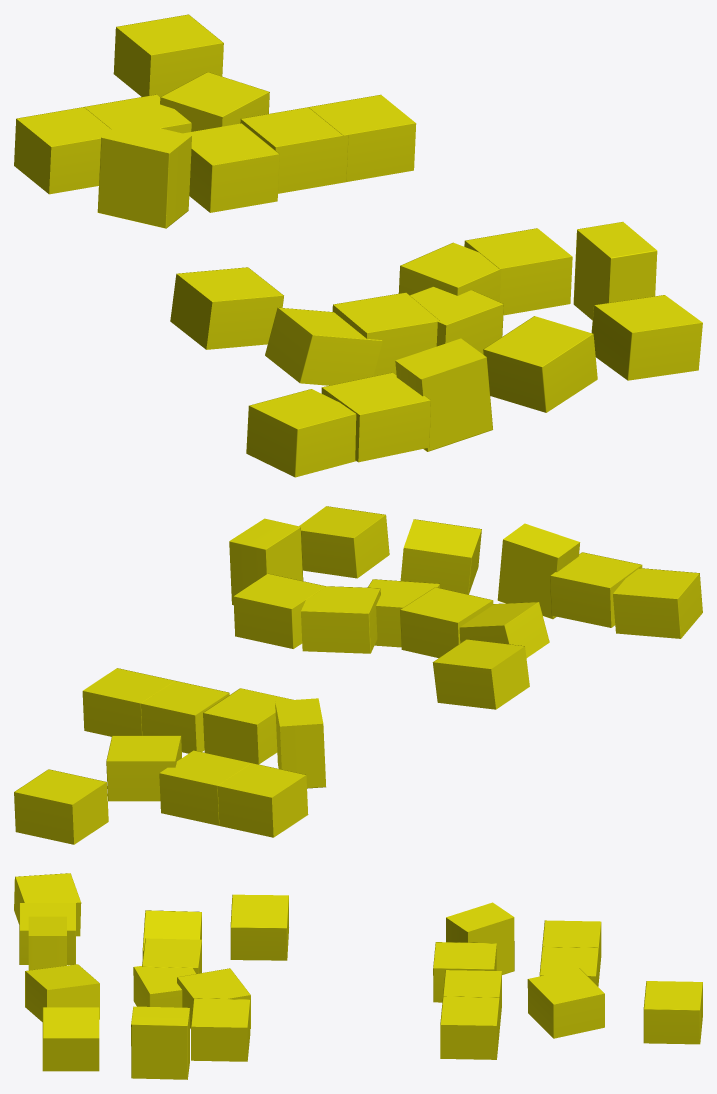
Rendered from Bookcase_05_BreakB_Lod0.fbx.
3 renders of one model, top to bottom at view 1: azimuth 30°, elevation 25°; view 2: azimuth 150°, elevation 25°; view 3: azimuth 270°, elevation 25°, orthographic. The views are drawn at different scales.
Visible parts, largest first — view 1: Bookcase_05_BreakB_Lod0; view 2: Bookcase_05_BreakB_Lod0; view 3: Bookcase_05_BreakB_Lod0.
Boxes of the visible parts, x1=… form: Bookcase_05_BreakB_Lod0: x1=14, y1=14, x2=702, y2=477; Bookcase_05_BreakB_Lod0: x1=14, y1=506, x2=702, y2=844; Bookcase_05_BreakB_Lod0: x1=14, y1=873, x2=702, y2=1079.
Size of the model in its own units: 176 by 33 by 310.
